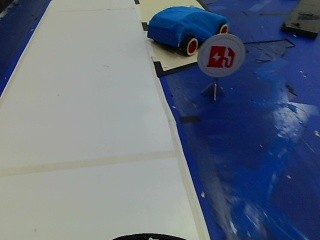battery: (199, 36, 239, 76)
